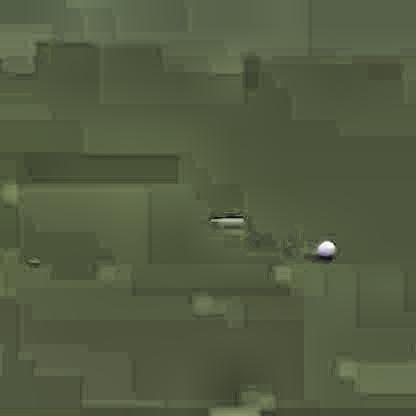golfball: (313, 237, 336, 258)
